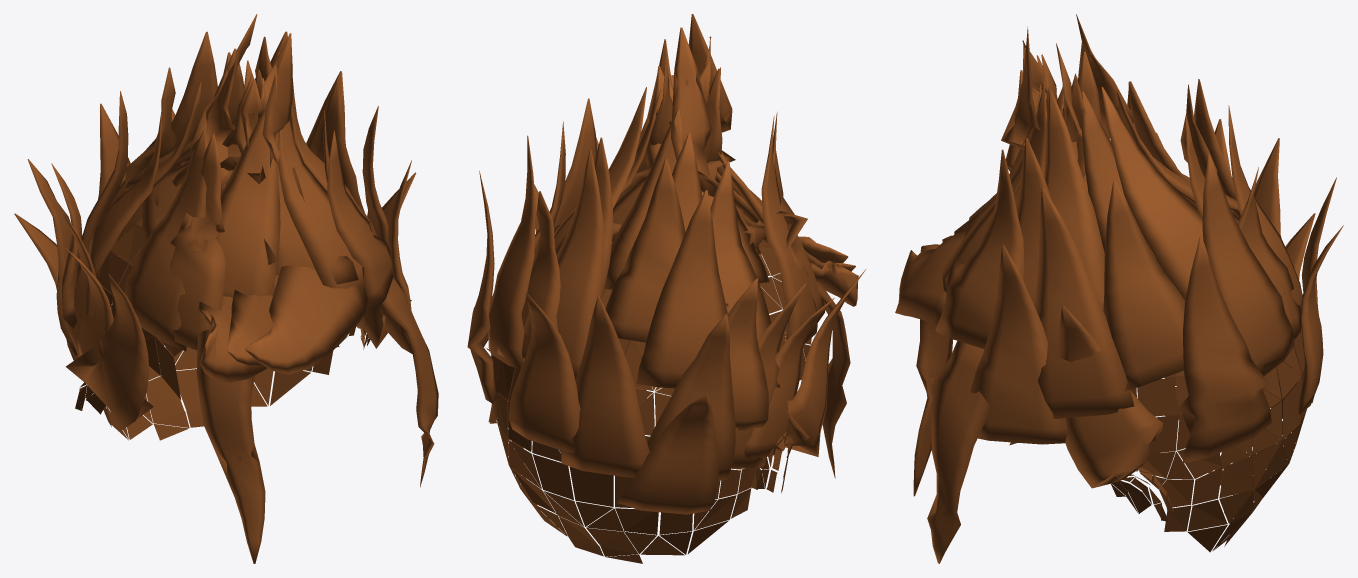
Rendered from kopf.haar.wuschel_hoch.glb.
The picture shows the model from 3 angles, left to right: view 1: azimuth 30°, elevation 25°; view 2: azimuth 150°, elevation 25°; view 3: azimuth 270°, elevation 25°; orthographic projection. The views are drawn at different scales.
Parts seen in each view (by area): view 1: haar; view 2: haar; view 3: haar.
Part boxes in pixels (bbox=[...]): haar: bbox=[14, 14, 438, 563]; haar: bbox=[467, 14, 865, 563]; haar: bbox=[895, 14, 1343, 563].
Bounding box in the file's own units: 0.2481 × 0.3284 × 0.2554.
